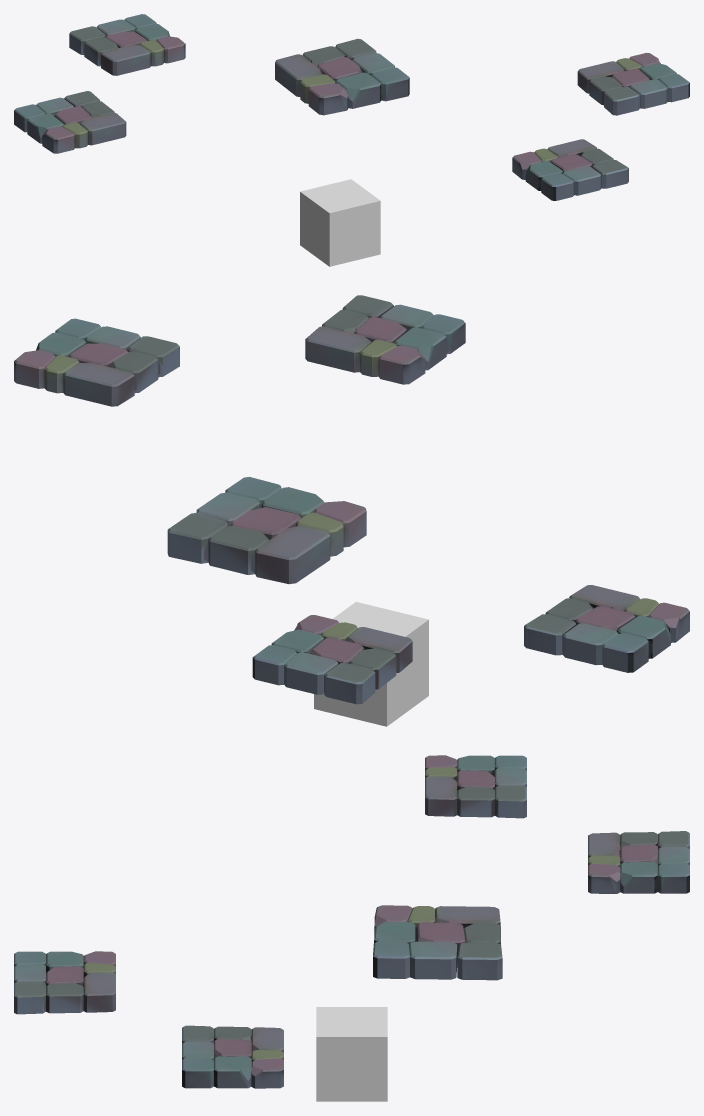
The model's file is battlescence-2-floor010.fbx.
The picture shows the model from 3 angles, top to bottom: view 1: azimuth 30°, elevation 25°; view 2: azimuth 150°, elevation 25°; view 3: azimuth 270°, elevation 25°; orthographic projection. The views are drawn at different scales.
Parts seen in each view (by area): view 1: Cube.069, battlescence-2-floor010, Cube.108, Cube.111, Cube.114, Cube.100; view 2: Cube.069, Cube.114, Cube.100, Cube.108, Cube.111, battlescence-2-floor010; view 3: Cube.069, battlescence-2-floor010, Cube.100, Cube.111, Cube.108, Cube.114.
Boxes of the visible parts, x1,y1,x2,y2 form: Cube.069: [275, 38, 409, 115]; battlescence-2-floor010: [300, 179, 380, 266]; Cube.108: [512, 139, 628, 200]; Cube.111: [69, 14, 185, 75]; Cube.114: [14, 91, 126, 153]; Cube.100: [577, 52, 689, 115]; Cube.069: [167, 477, 366, 584]; Cube.114: [524, 585, 689, 672]; Cube.100: [14, 318, 179, 406]; Cube.108: [305, 295, 465, 384]; Cube.111: [252, 615, 412, 704]; battlescence-2-floor010: [314, 602, 428, 726]; Cube.069: [373, 905, 502, 980]; battlescence-2-floor010: [316, 1007, 387, 1101]; Cube.100: [182, 1025, 283, 1088]; Cube.111: [588, 831, 689, 893]; Cube.108: [14, 951, 115, 1014]; Cube.114: [425, 755, 526, 818].
Size of the model in its own units: 2097 by 561 by 1896.
